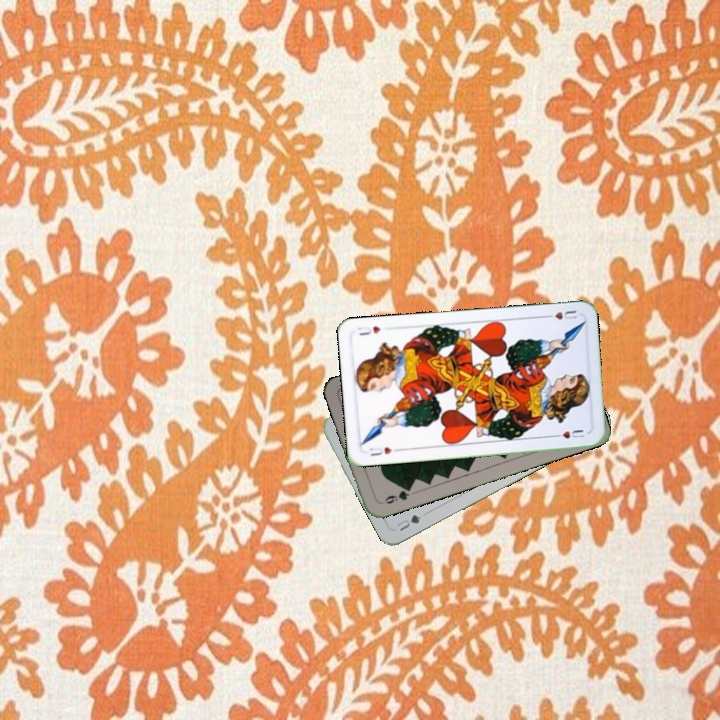G9: (376, 483, 414, 507)
GU: (393, 511, 424, 534)
HU: (540, 306, 580, 322), (365, 443, 402, 459)
